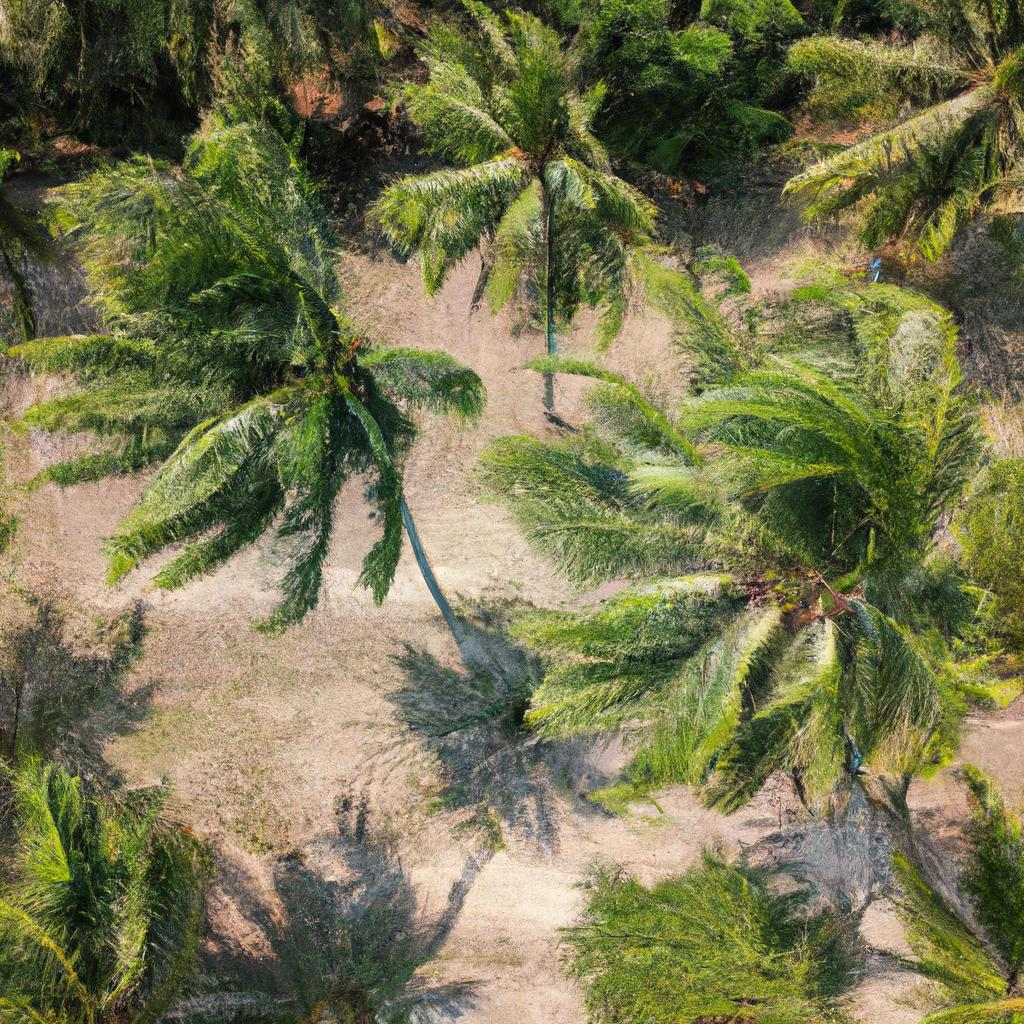coconut_tree: (503, 251, 1023, 829), (1, 113, 479, 658), (371, 8, 736, 345)
